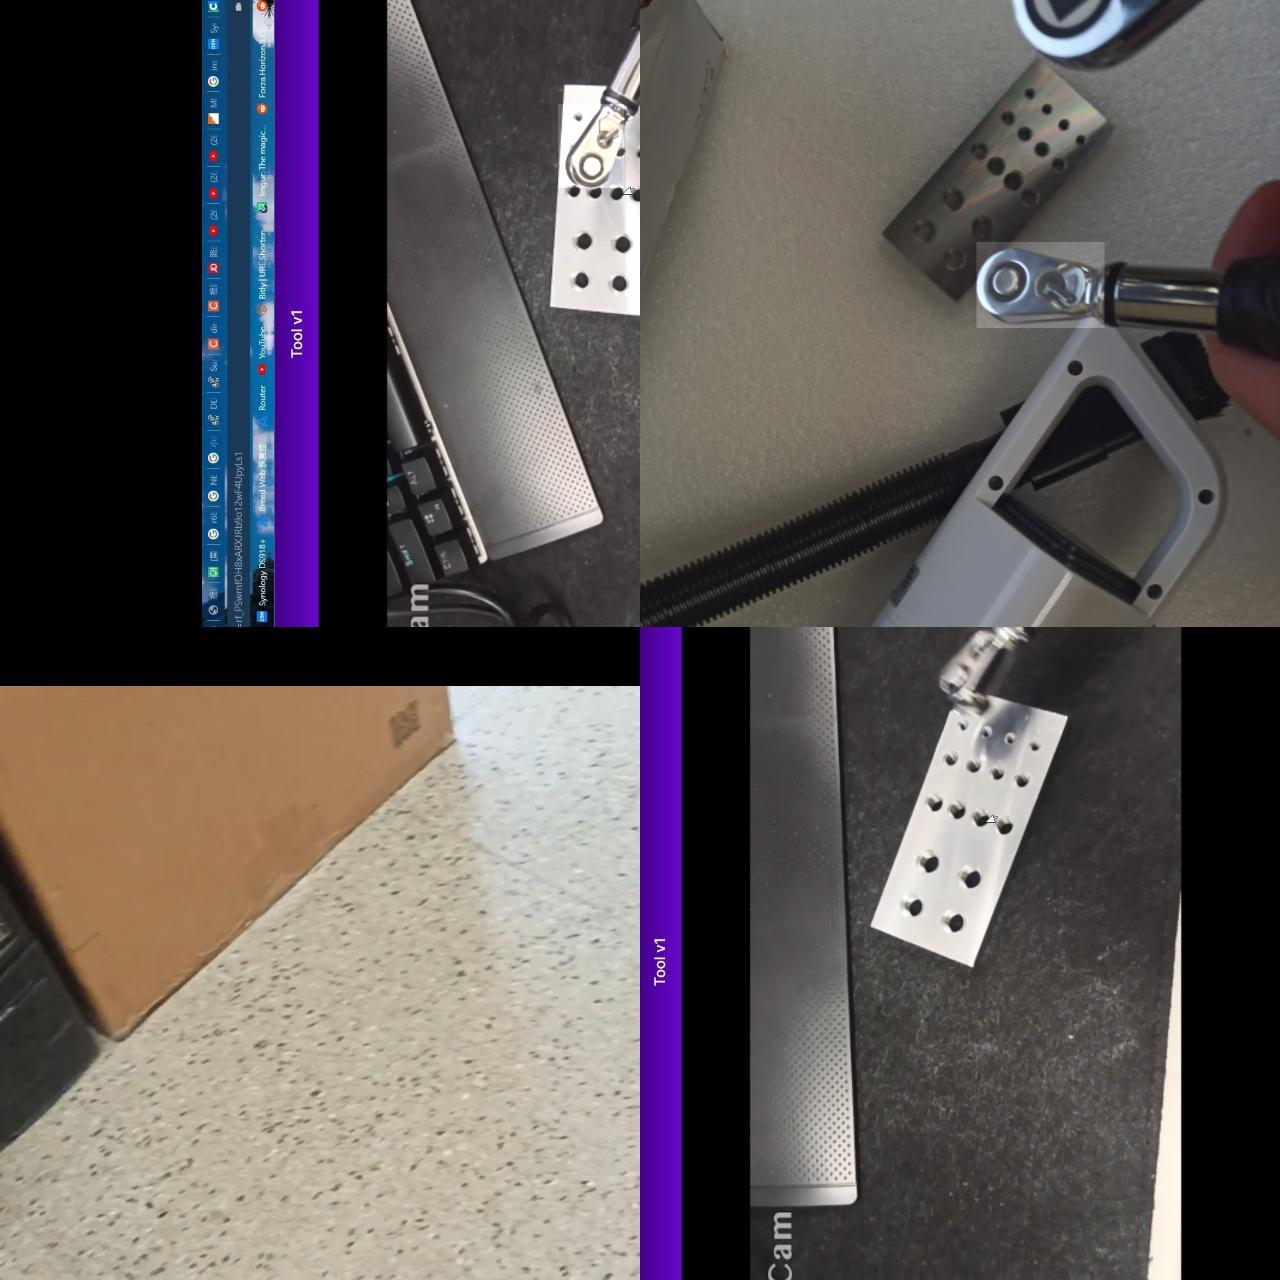Tool: (1013, 0, 1269, 64), (976, 240, 1104, 327), (558, 103, 624, 188)
